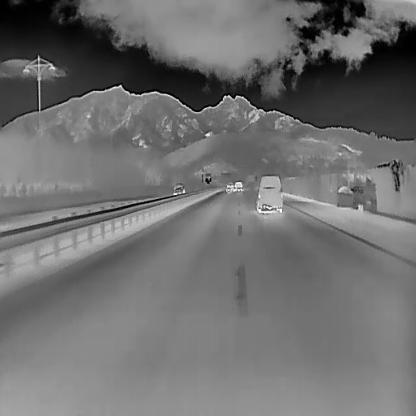car: (255, 173, 283, 213), (172, 181, 185, 194), (233, 179, 243, 192), (225, 181, 233, 193)
